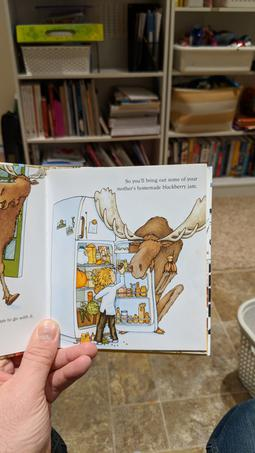text block: (117, 174, 206, 195), (1, 310, 38, 330)
